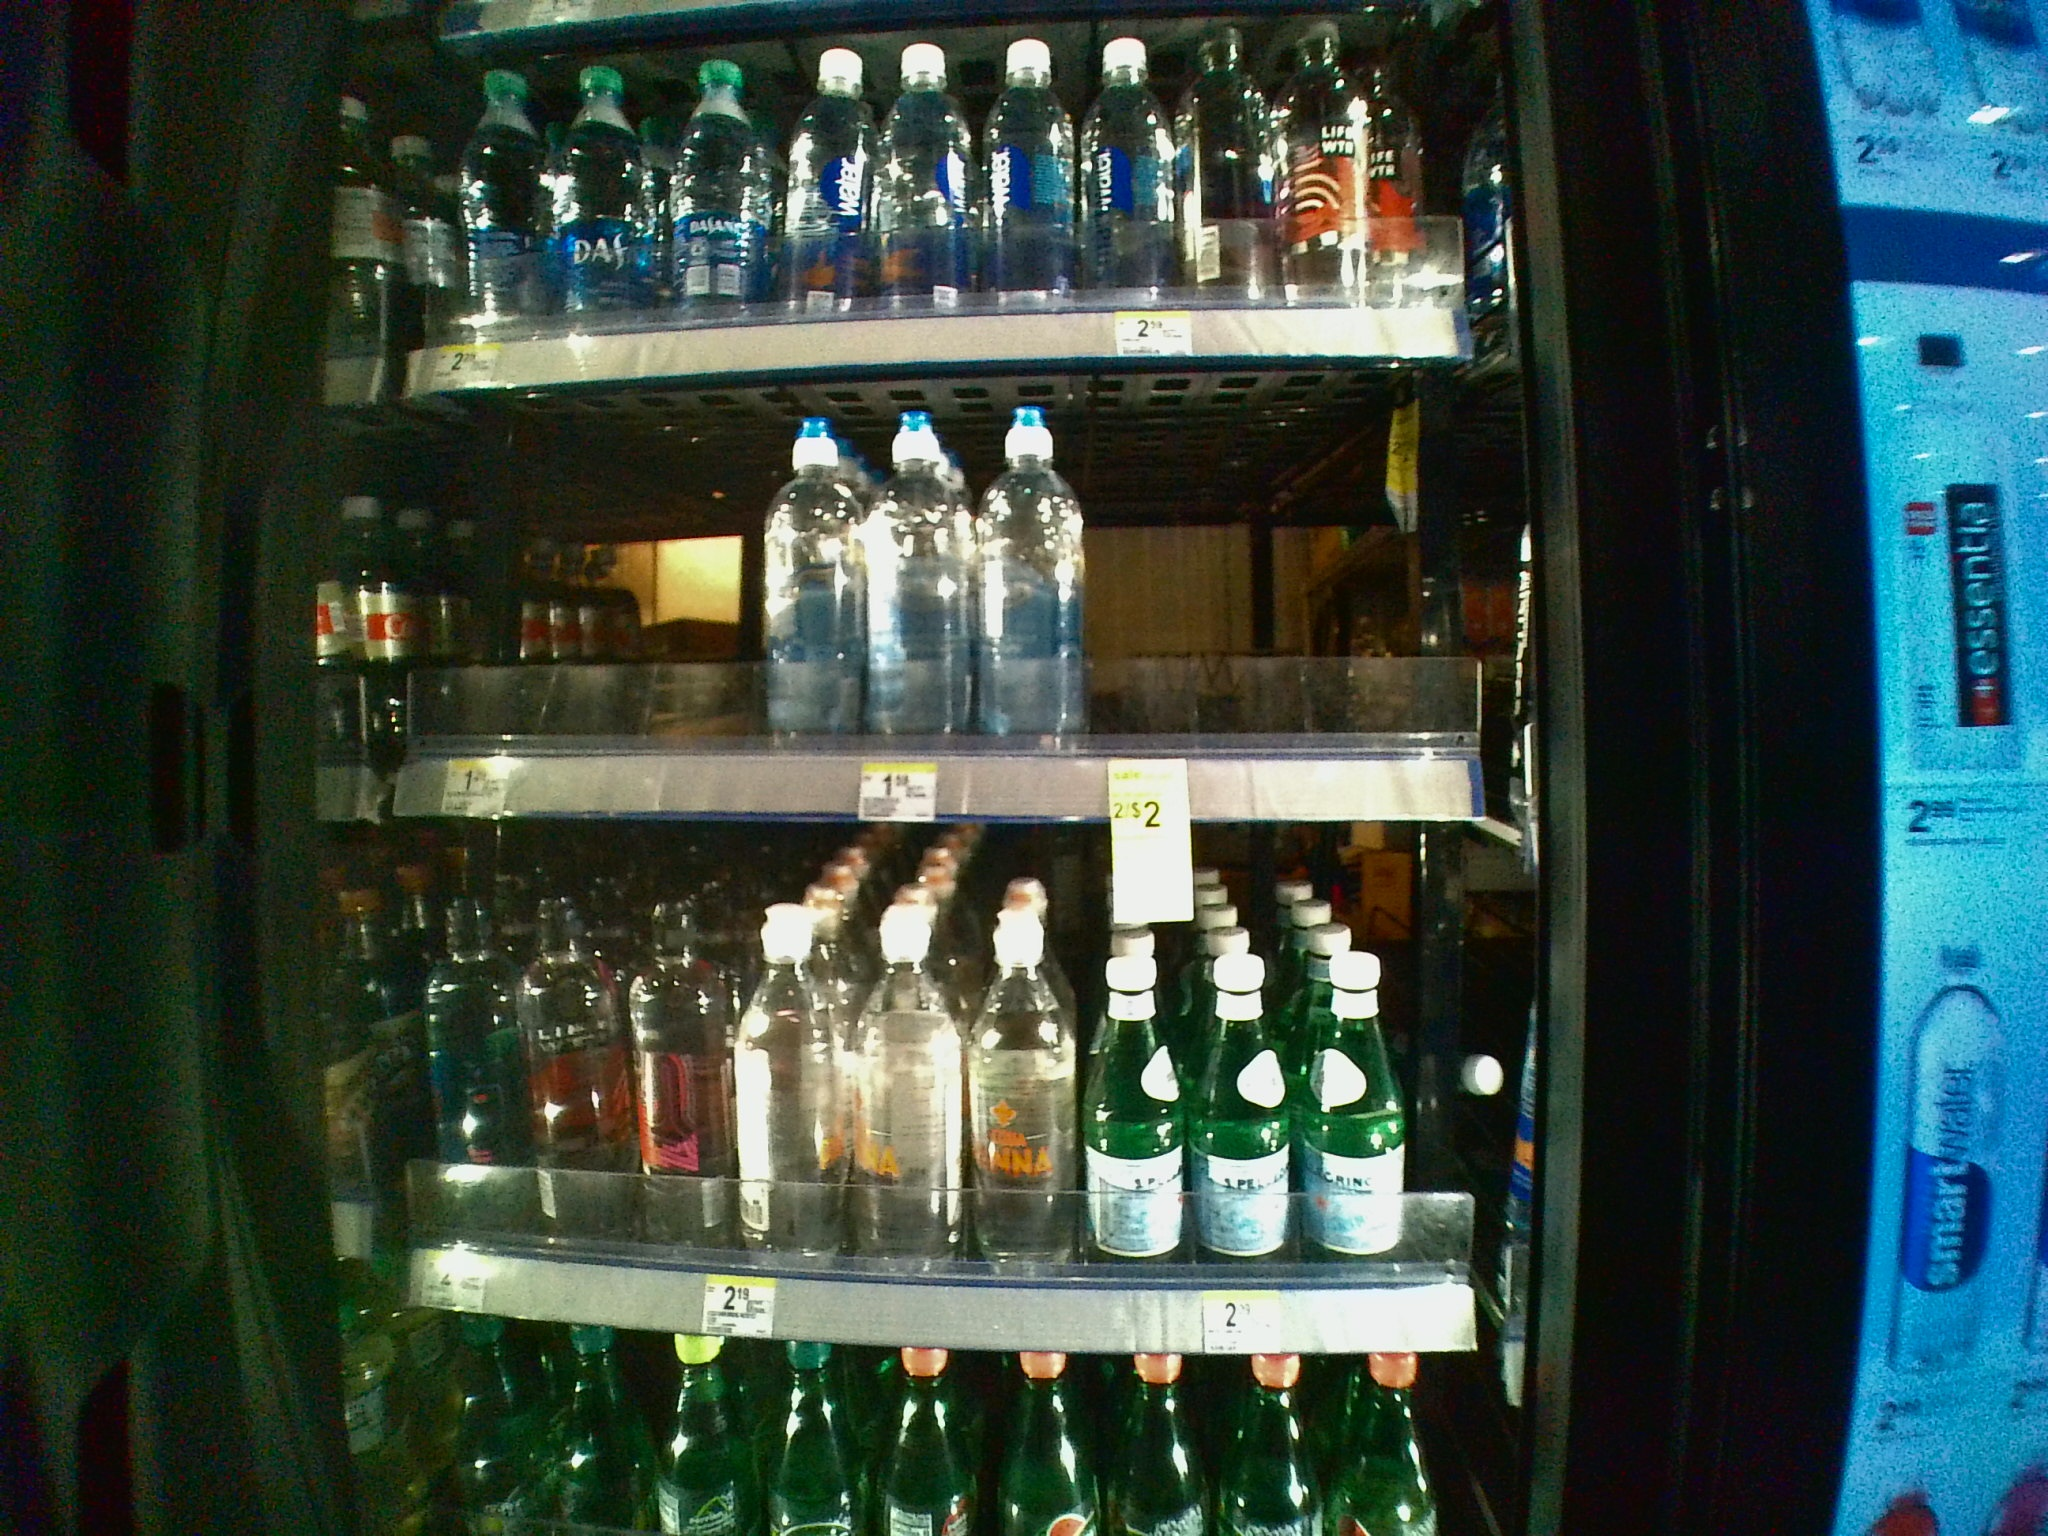Shelf: (374, 821, 1516, 1354), (374, 395, 1506, 824)
